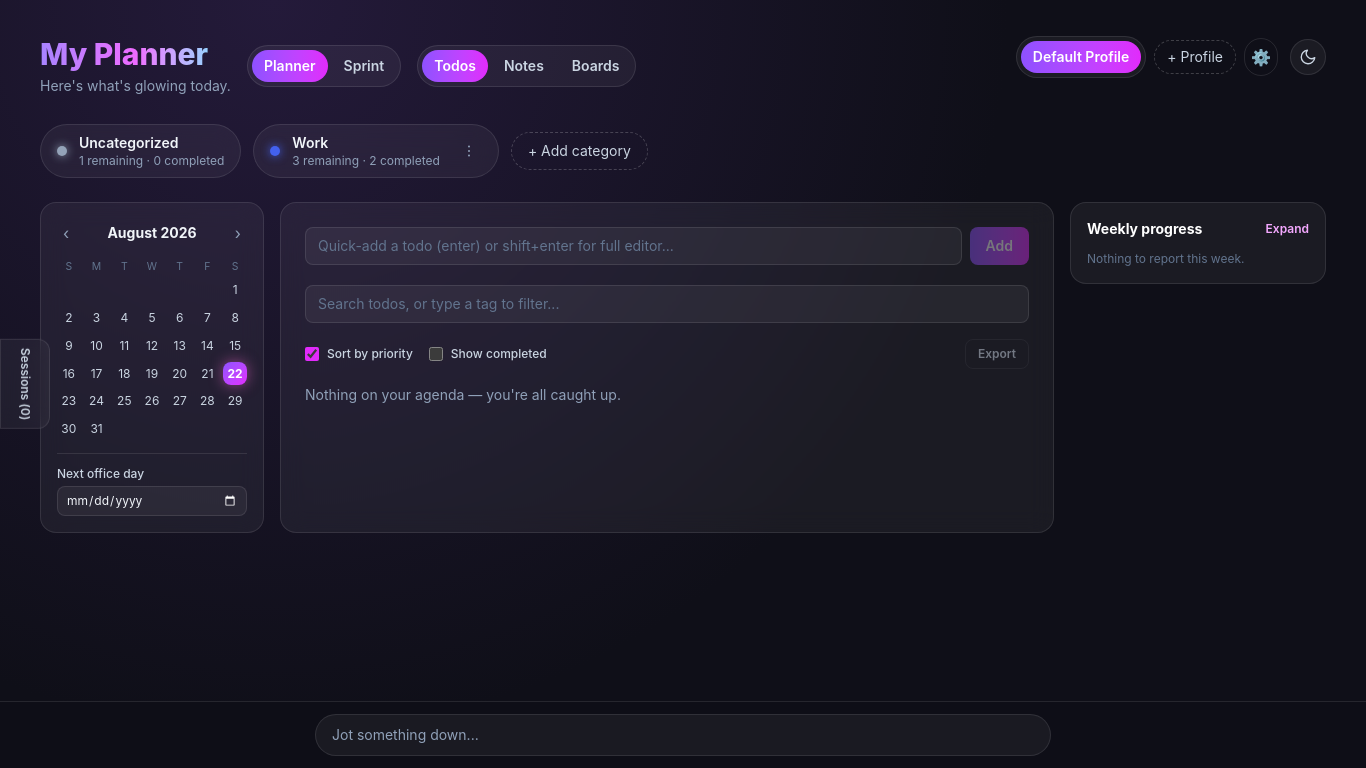
Test: App › deletes a category
Expected: the text "Work" is shown, [292,134,328,151]
Click the button named "More actions for Work". click: (469, 151)
box: [456,138,482,164]
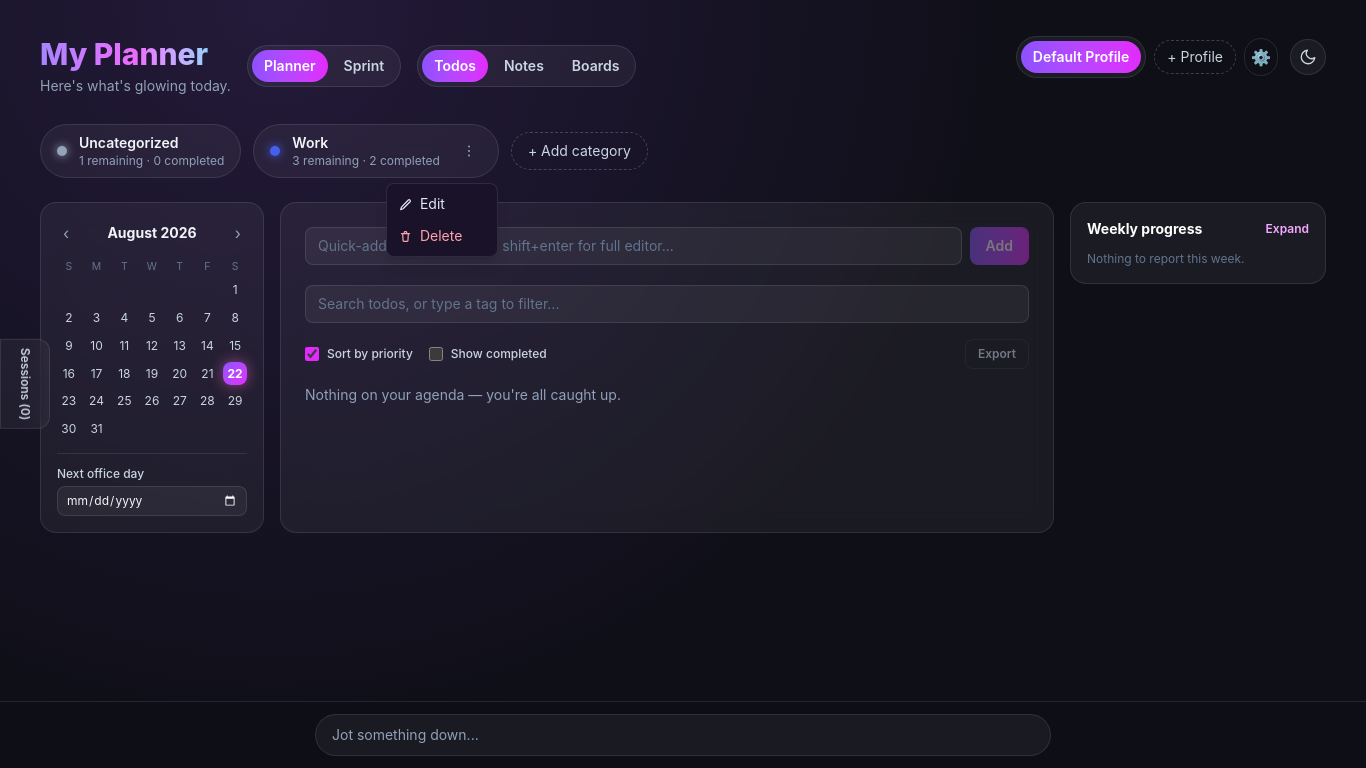
Click the menu item "Delete". click: (442, 236)
box: [387,220,497,252]
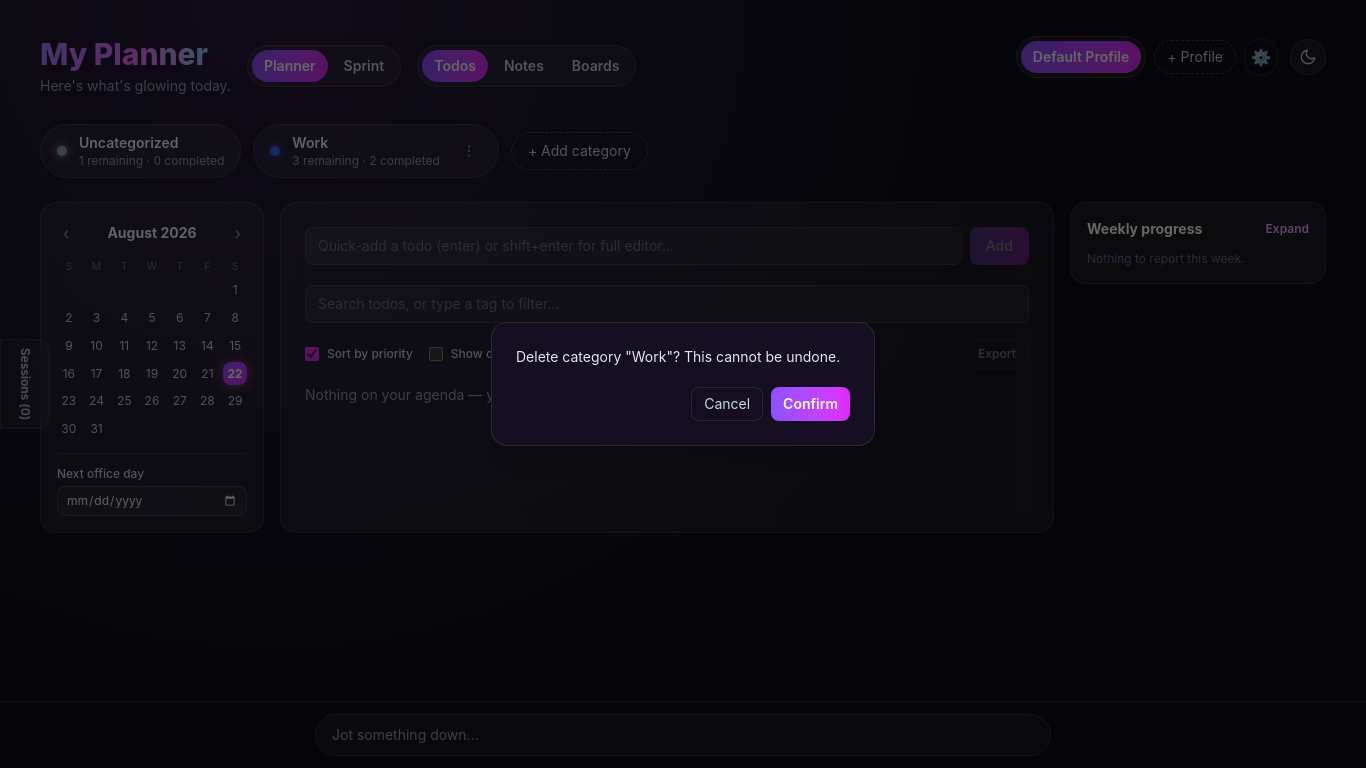
Click the button "Confirm". click: (811, 404)
box: [771,387,850,421]
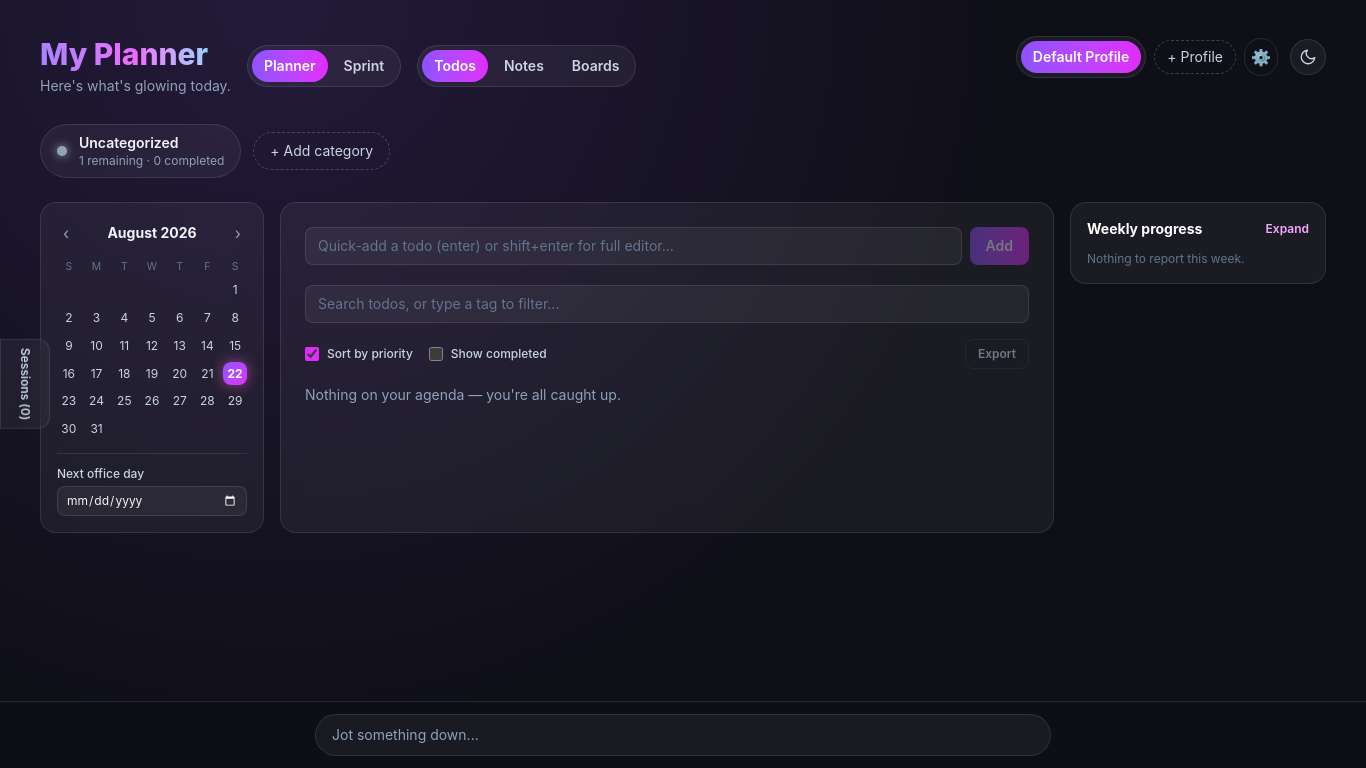
Now the button "Work" is gone
